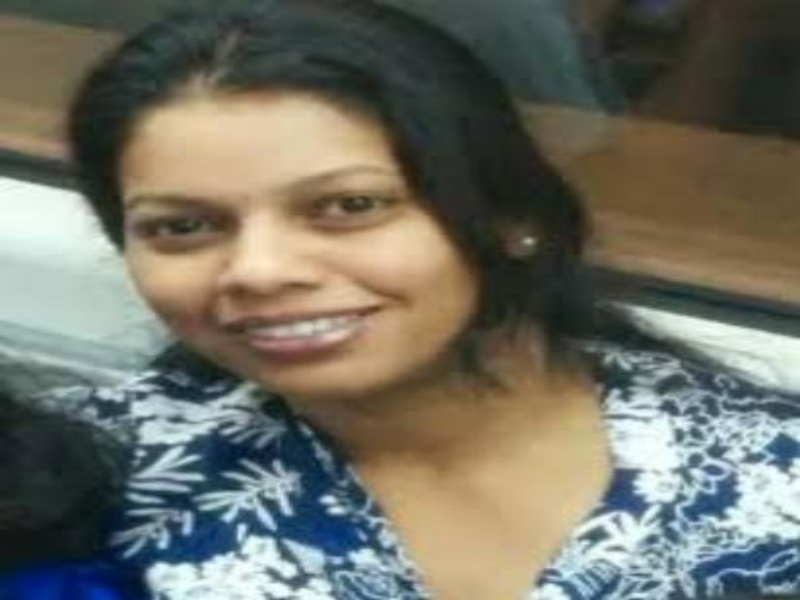TsisyArotava: (86, 54, 536, 415)
